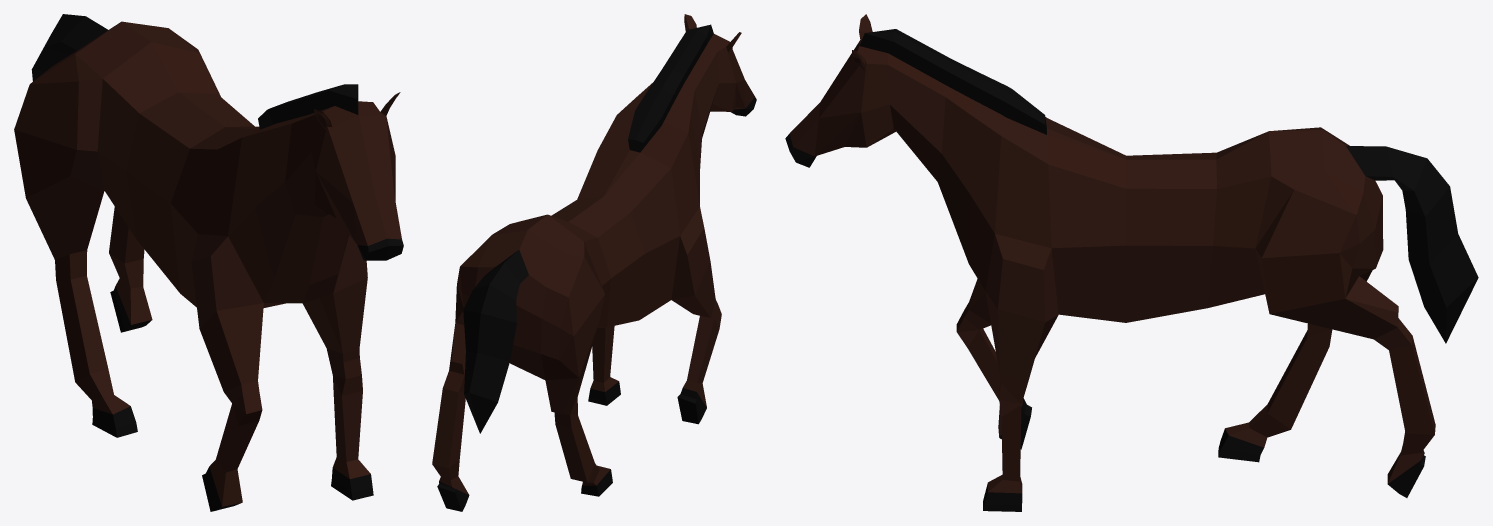
The model's file is Horse_000008.obj.
3 renders of one model, left to right at view 1: azimuth 30°, elevation 25°; view 2: azimuth 150°, elevation 25°; view 3: azimuth 270°, elevation 25°, orthographic. The views are drawn at different scales.
Visible parts, largest first — view 1: Horse_Cylinder; view 2: Horse_Cylinder; view 3: Horse_Cylinder.
Part boxes in pixels (x1=…): Horse_Cylinder: x1=14, y1=14, x2=403, y2=511; Horse_Cylinder: x1=432, y1=14, x2=756, y2=511; Horse_Cylinder: x1=785, y1=14, x2=1478, y2=511.
Bounding box in the file's own units: 2.57 × 6.75 × 9.49.
